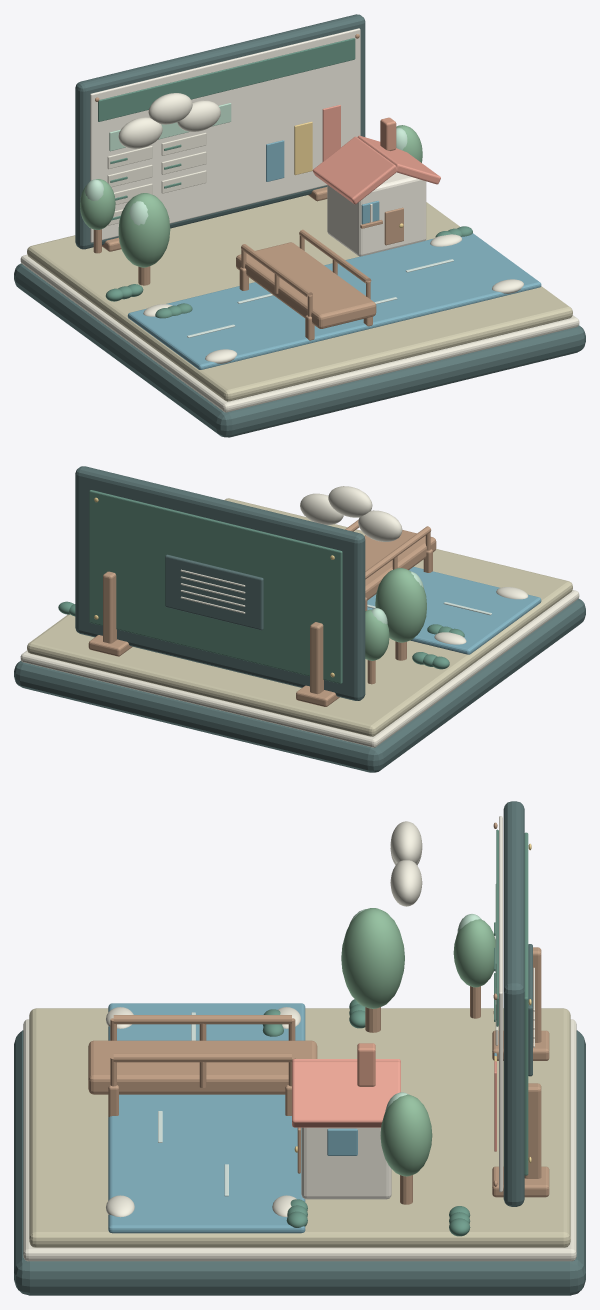
Rendered from Flood-Monitoring-System.glb.
3 views of the same model, one above another, from view 1: azimuth 30°, elevation 25°; view 2: azimuth 150°, elevation 25°; view 3: azimuth 270°, elevation 25° (orthographic). The views are drawn at different scales.
Visible parts, largest first — view 1: Landscape, Dashboard surface, River, Dark base, Dashboard frame, Edge inset, Bridge deck, Dashboard header, Cottage, Cottage pitched roof, Tree canopy, Cottage pitched roof.001 (+16 smaller); view 2: Screen rear panel, Landscape, Dashboard frame, Dark base, Edge inset, River, Screen rear module, Tree canopy, Bridge deck, Cloud.001, Cloud, Screen upright.001 (+6 smaller); view 3: Landscape, River, Dark base, Edge inset, Bridge deck, Dashboard frame, Cottage pitched roof.001, Cottage, Tree canopy, Tree canopy.001, Tree canopy.002, Bridge rail.001 (+11 smaller).
Boxes of the visible parts, x1,y1,x2,y2 form: Landscape: [27, 195, 572, 401]; Dashboard surface: [90, 28, 360, 242]; River: [127, 233, 541, 369]; Dark base: [14, 263, 585, 437]; Dashboard frame: [75, 14, 365, 249]; Edge inset: [20, 254, 579, 412]; Bridge deck: [236, 242, 376, 328]; Dashboard header: [98, 38, 355, 121]; Cottage: [327, 172, 426, 256]; Cottage pitched roof: [312, 136, 396, 204]; Tree canopy: [118, 193, 170, 267]; Cottage pitched roof.001: [357, 135, 440, 184]; Screen rear panel: [89, 490, 342, 683]; Landscape: [27, 498, 572, 736]; Dashboard frame: [75, 466, 365, 700]; Dark base: [14, 598, 585, 772]; Edge inset: [20, 590, 579, 747]; River: [367, 567, 541, 654]; Screen rear module: [165, 554, 263, 630]; Tree canopy: [375, 568, 426, 642]; Bridge deck: [364, 530, 436, 600]; Cloud.001: [328, 486, 372, 517]; Cloud: [358, 510, 402, 541]; Screen upright.001: [103, 571, 116, 643]; Landscape: [29, 1008, 570, 1247]; River: [108, 1003, 305, 1233]; Dark base: [14, 1030, 585, 1295]; Edge inset: [23, 1019, 576, 1261]; Bridge deck: [88, 1040, 317, 1094]; Dashboard frame: [503, 801, 524, 1206]; Cottage pitched roof.001: [292, 1061, 400, 1127]; Cottage: [301, 1127, 391, 1199]; Tree canopy: [341, 908, 404, 1008]; Tree canopy.001: [380, 1094, 432, 1176]; Tree canopy.002: [453, 919, 495, 987]; Bridge rail.001: [113, 1053, 291, 1062].
Bounding box in the file's own units: 4.3 × 2.45 × 4.3.
